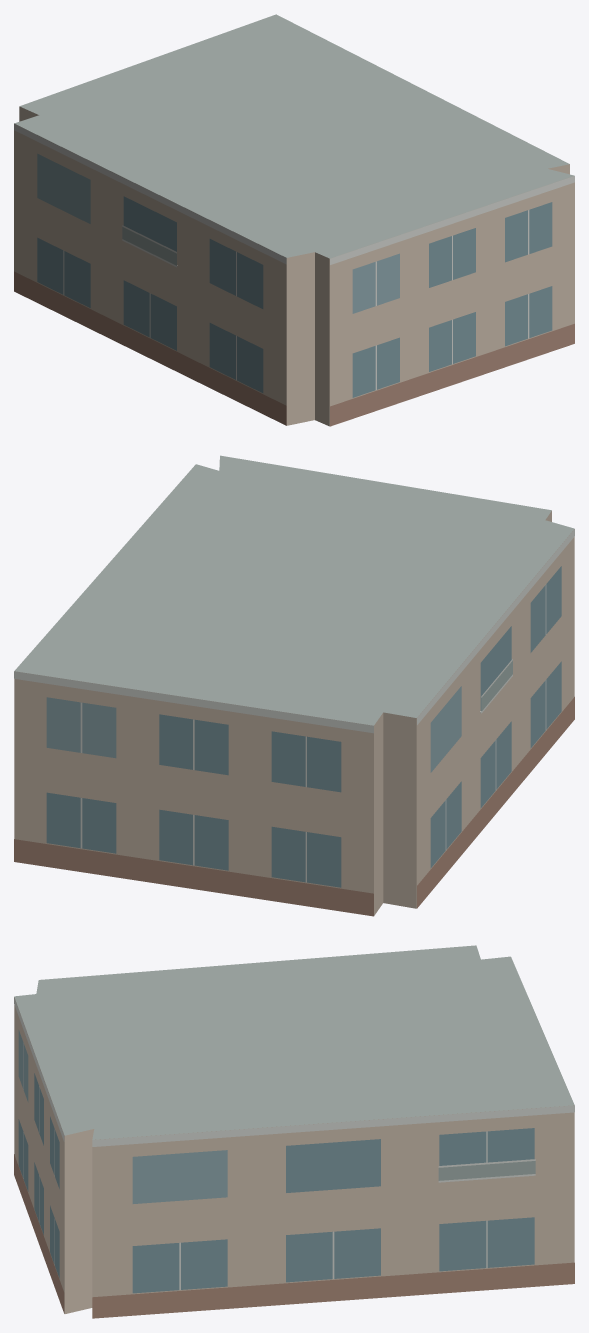
The model's file is survey-upis-32999923.glb.
The picture shows the model from 3 angles, top to bottom: view 1: azimuth 30°, elevation 25°; view 2: azimuth 150°, elevation 25°; view 3: azimuth 270°, elevation 25°; orthographic projection. The views are drawn at different scales.
Parts seen in each view (by area): view 1: survey-upis-32999923.tmp; view 2: survey-upis-32999923.tmp; view 3: survey-upis-32999923.tmp.
Boxes of the visible parts, x1=… form: survey-upis-32999923.tmp: x1=14, y1=14, x2=574, y2=426; survey-upis-32999923.tmp: x1=14, y1=455, x2=574, y2=916; survey-upis-32999923.tmp: x1=14, y1=945, x2=574, y2=1318.
Size of the model in its own units: 14.27 by 6.1 by 17.37.
